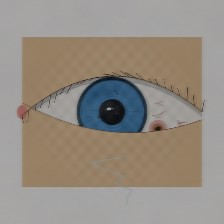foreign_body_visible: (142, 116, 173, 141)
